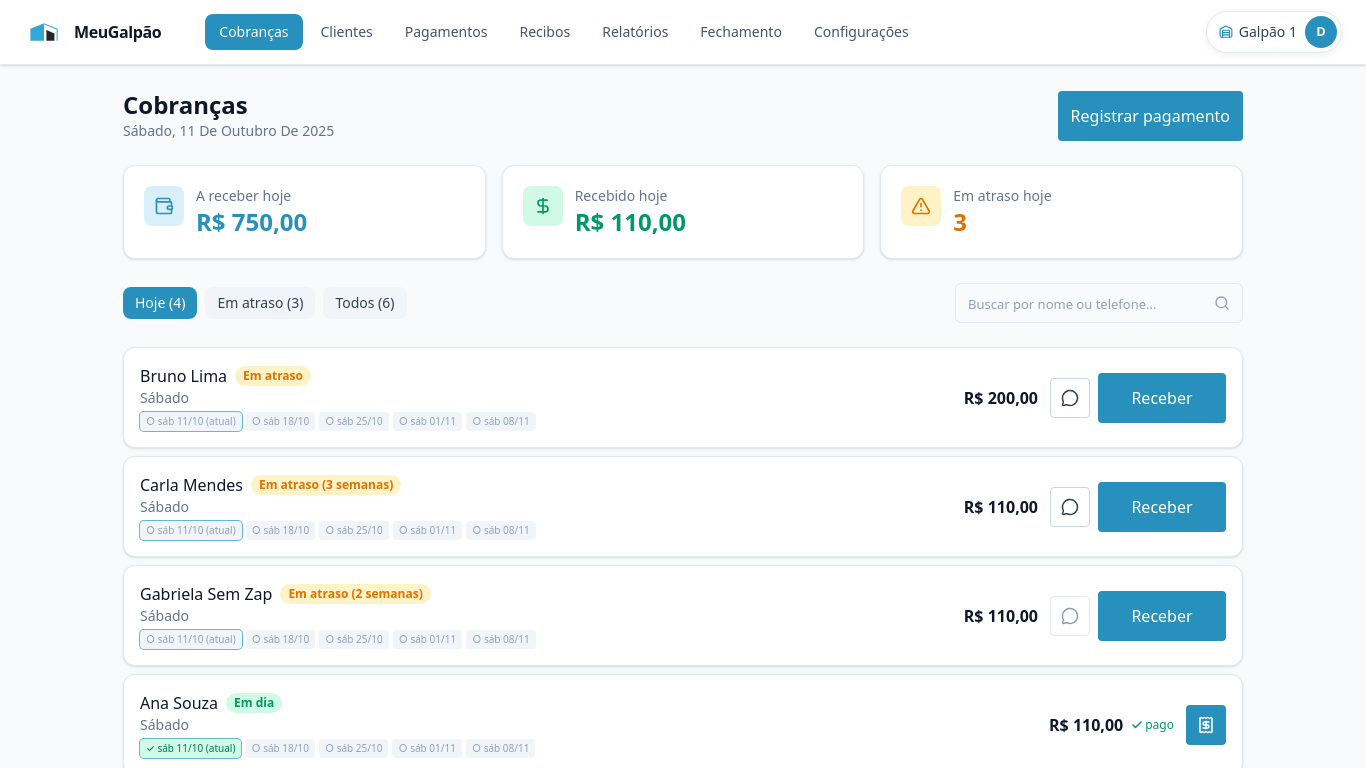
Scenario: Menu principal › clicar num item leva para a tela e o destaque acompanha
Expected: the heading "Cobranças" is shown, [123, 88, 248, 121]
Click the link "Recibos".
click(545, 32)  # box [519, 22, 570, 41]
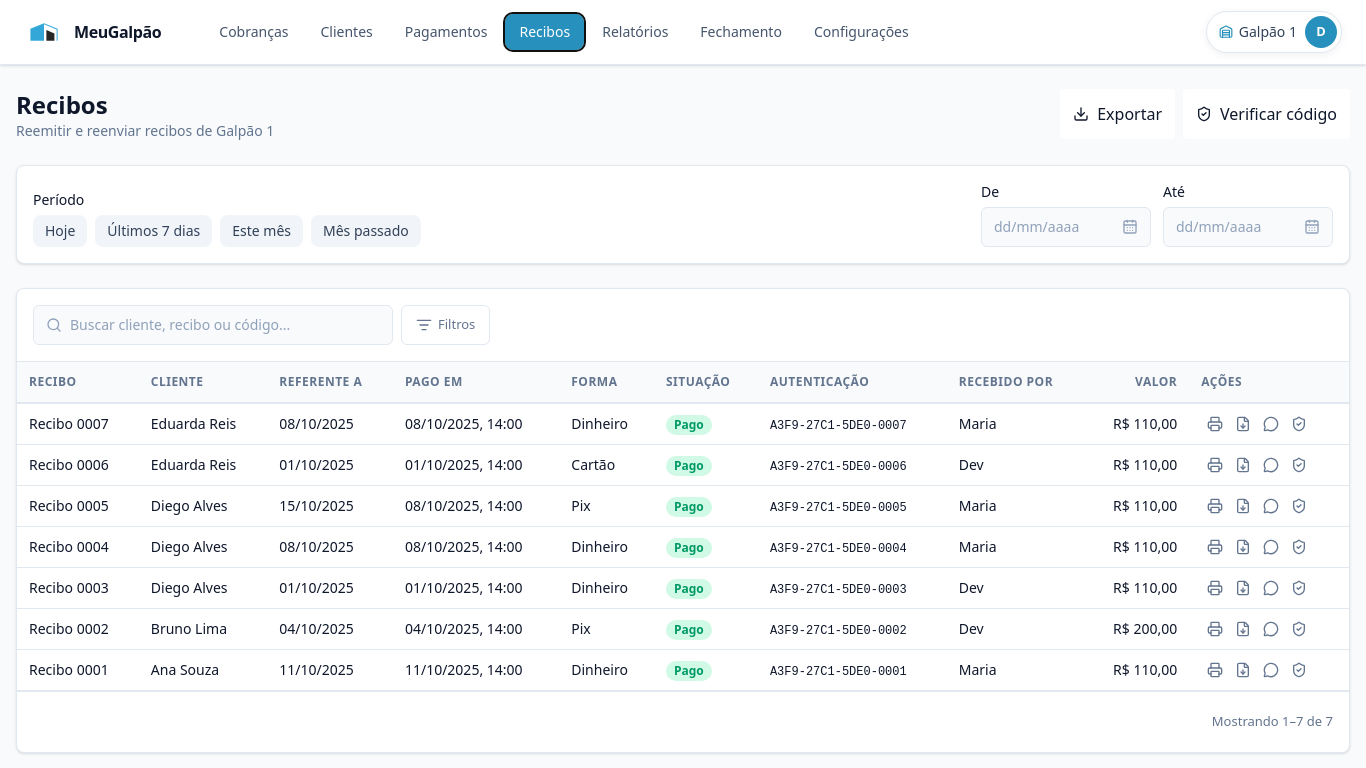
Result: the heading "Recibos" is shown at [16, 88, 108, 121]
